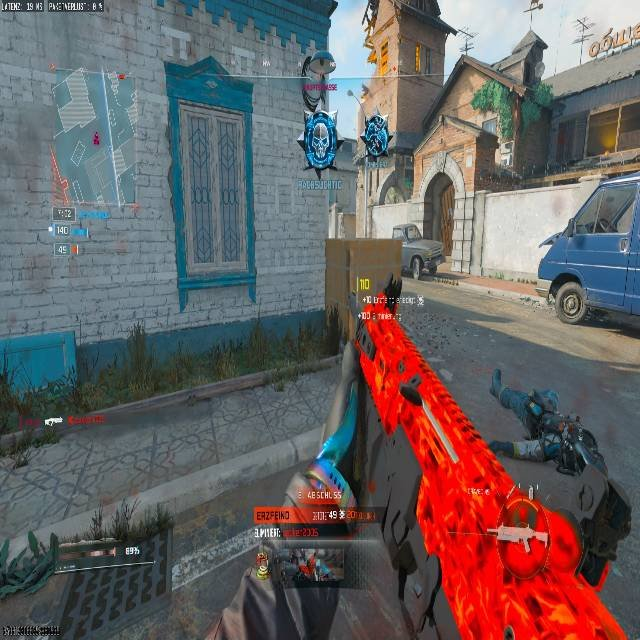player: (485, 366, 632, 592), (362, 113, 391, 167)
